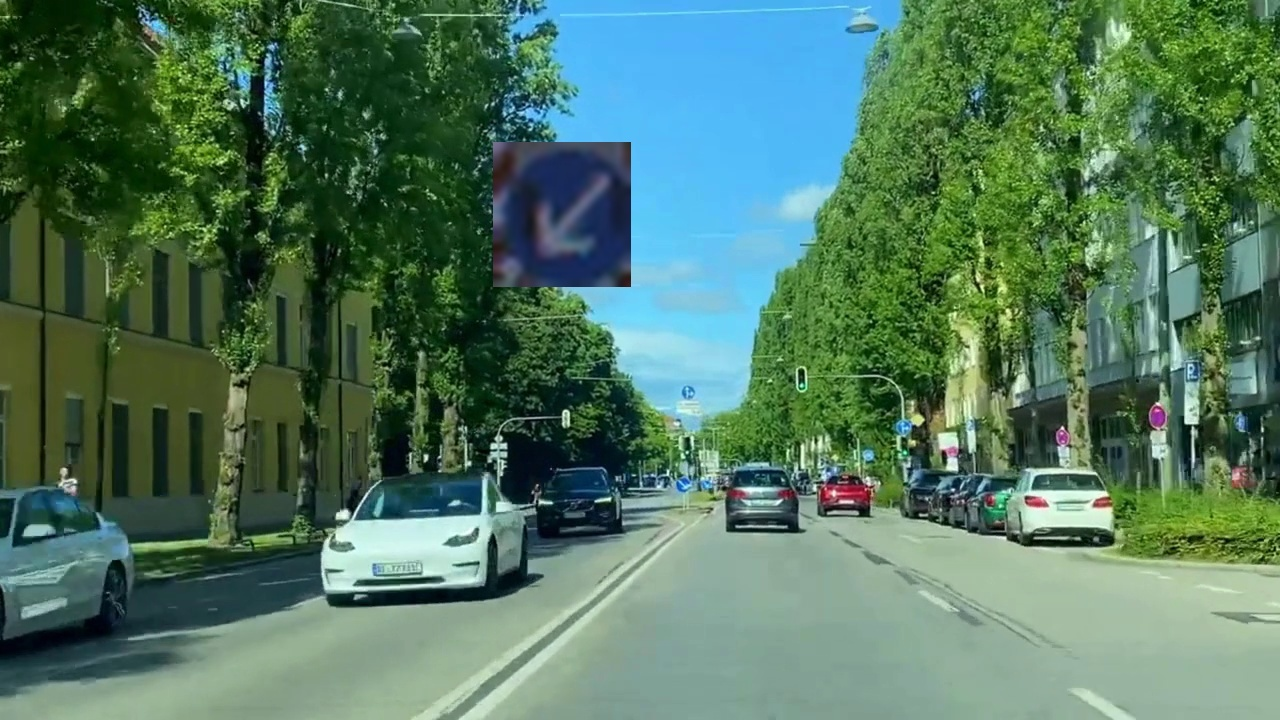Keep left: (493, 142, 631, 287)
